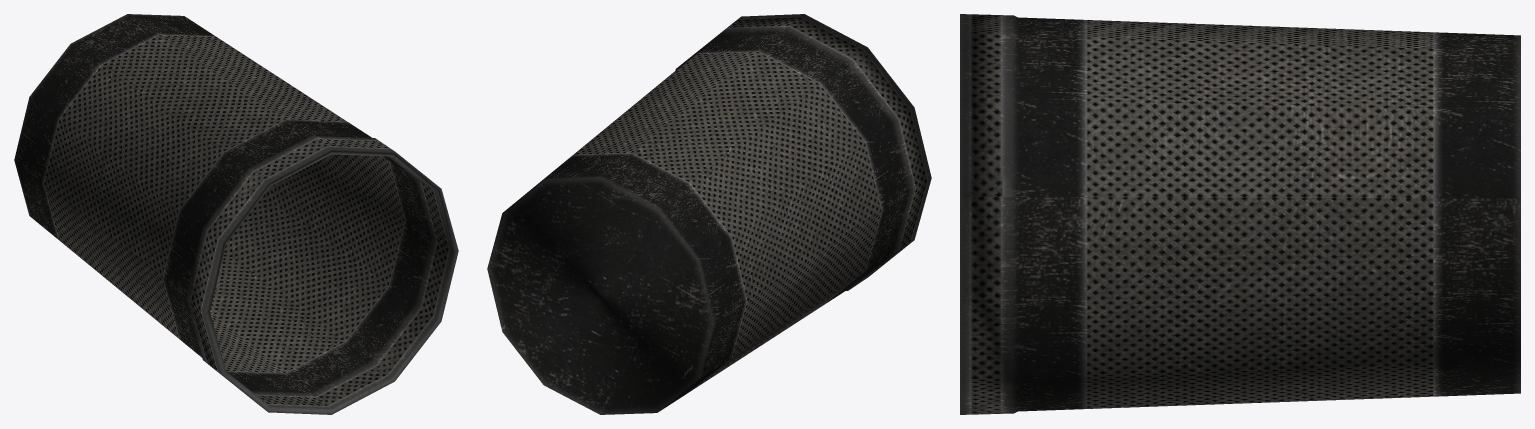
File: trashcan.fbx
The picture shows the model from 3 angles, left to right: view 1: azimuth 30°, elevation 25°; view 2: azimuth 150°, elevation 25°; view 3: azimuth 270°, elevation 25°; orthographic projection. The views are drawn at different scales.
Visible parts, largest first — view 1: trashcan; view 2: trashcan; view 3: trashcan.
Boxes of the visible parts, x1,y1,x2,y2 form: trashcan: (14, 14, 458, 414); trashcan: (487, 14, 931, 414); trashcan: (960, 14, 1520, 414).
Size of the model in its own units: 0.622 by 0.622 by 0.865.
